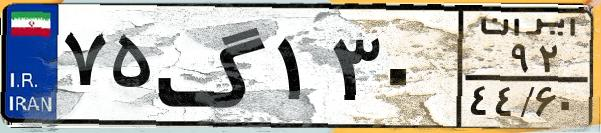0: (385, 28, 445, 110), (560, 70, 590, 125)
1: (270, 28, 330, 110)
2: (537, 27, 568, 80)
3: (330, 28, 385, 110)
4: (470, 70, 495, 125), (495, 70, 520, 125)
5: (110, 28, 156, 98)
6: (535, 70, 560, 125)
7: (57, 26, 110, 100)
9: (508, 27, 537, 80)
گ: (156, 12, 270, 120)
